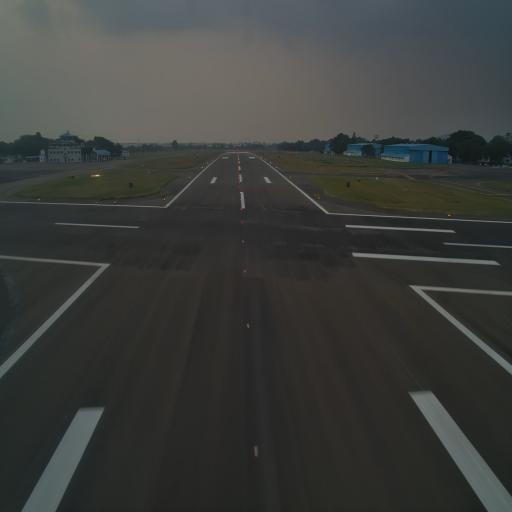on: (246, 320, 250, 331), (448, 212, 452, 220), (113, 199, 117, 206), (241, 218, 244, 226), (241, 240, 245, 245), (37, 196, 40, 202), (244, 269, 246, 275), (240, 206, 242, 212)
